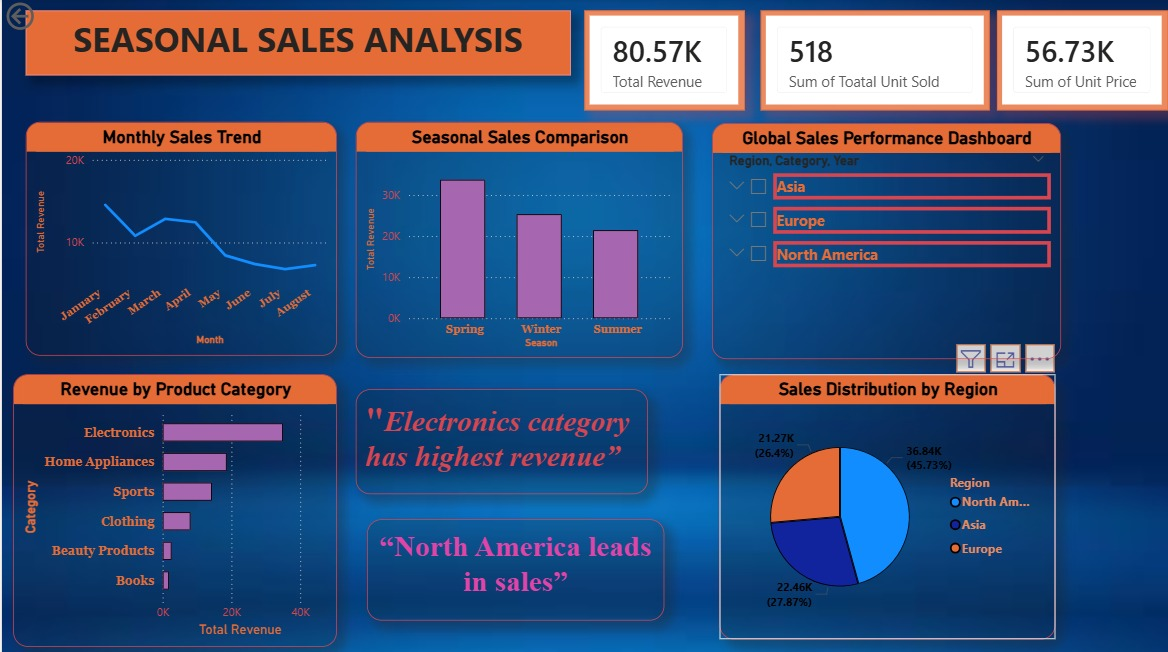

What the dashboard file says about the page in this screenshot:
{"tool":"powerbi","page":{"name":"Overview Dashboard","canvas":[1280,720],"ordinal":0},"visuals":[{"type":"lineChart","title":"Monthly Sales Trend","fields":{"Y":["Online Sales Data.Total Revenue"],"Category":["Online Sales Data.Month"]},"box":[26.1,135.8,341.7,256.6],"z":0},{"type":"clusteredColumnChart","title":"Seasonal Sales Comparison","fields":{"Category":["Online Sales Data.Season"],"Y":["Online Sales Data.Total Revenue"]},"box":[388.3,135.8,359.5,259.3],"z":1000},{"type":"clusteredBarChart","title":"Revenue by Product Category","fields":{"Category":["Online Sales Data.Category"],"Y":["Online Sales Data.Total Revenue"]},"box":[12.3,413,355.4,299.1],"z":2000},{"type":"pieChart","title":"Sales Distribution by Region","fields":{"Category":["Online Sales Data.Region"],"Y":["Online Sales Data.Total Revenue"]},"box":[787.7,413,369.1,290.9],"z":3000},{"type":"slicer","title":"Global Sales Performance Dashboard","fields":{"Values":["Online Sales Data.Region","Online Sales Data.Category","Online Sales Data.Year"]},"box":[779.4,137.2,382.8,259.3],"z":4000},{"type":"textbox","box":[26.1,13.7,598.3,71.4],"z":5000},{"type":"cardVisual","fields":{"Data":["Online Sales Data.Total Revenue"]},"box":[639.5,13.7,175.6,109.8],"z":6000},{"type":"cardVisual","fields":{"Data":["Sum(Online Sales Data.Toatal Unit Sold)"]},"box":[832.9,13.7,251.1,109.8],"z":7000},{"type":"cardVisual","fields":{"Data":["Sum(Online Sales Data.Unit Price)"]},"box":[1092.3,13.7,188,109.8],"z":8000},{"type":"actionButton","box":[0,0,100,40],"z":9000},{"type":"textbox","box":[388.3,429.5,321.1,115.3],"z":10000},{"type":"textbox","box":[400.7,572.2,326.6,111.1],"z":11000}]}

Visuals, with their boxes in screenshot pixels (x1, y1, x2, y2), scaled from the page's 1280x720 canvas onto the 1168x652 screenshot:
"Monthly Sales Trend" lineChart: x1=24 y1=123 x2=336 y2=355
"Seasonal Sales Comparison" clusteredColumnChart: x1=354 y1=123 x2=682 y2=358
"Revenue by Product Category" clusteredBarChart: x1=11 y1=374 x2=336 y2=645
"Sales Distribution by Region" pieChart: x1=719 y1=374 x2=1056 y2=637
"Global Sales Performance Dashboard" slicer: x1=711 y1=124 x2=1061 y2=359
textbox: x1=24 y1=12 x2=570 y2=77
cardVisual - Online Sales Data.Total Revenue: x1=584 y1=12 x2=744 y2=112
cardVisual - Sum(Online Sales Data.Toatal Unit Sold): x1=760 y1=12 x2=989 y2=112
cardVisual - Sum(Online Sales Data.Unit Price): x1=997 y1=12 x2=1167 y2=112
actionButton: x1=0 y1=0 x2=91 y2=36
textbox: x1=354 y1=389 x2=647 y2=493
textbox: x1=366 y1=518 x2=664 y2=619
